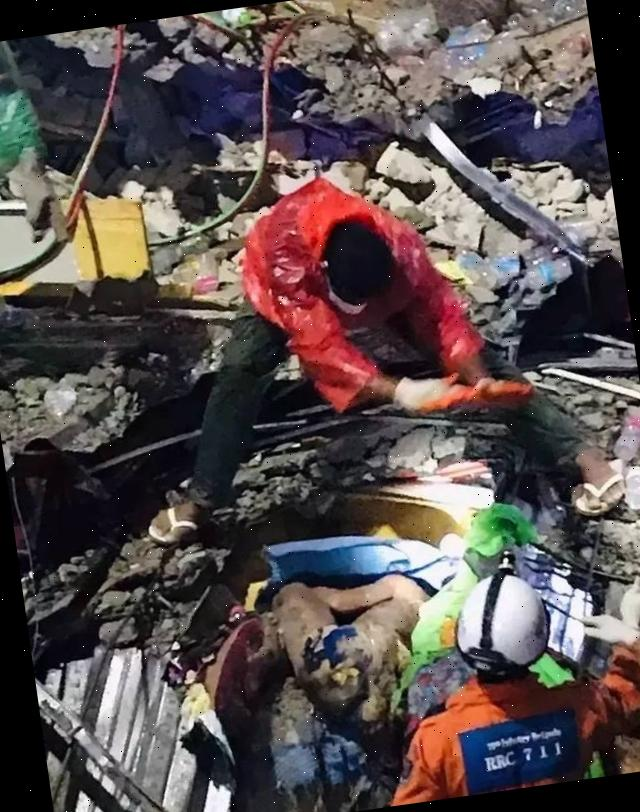helmet: (436, 542, 562, 678)
wear: (408, 678, 616, 802)
